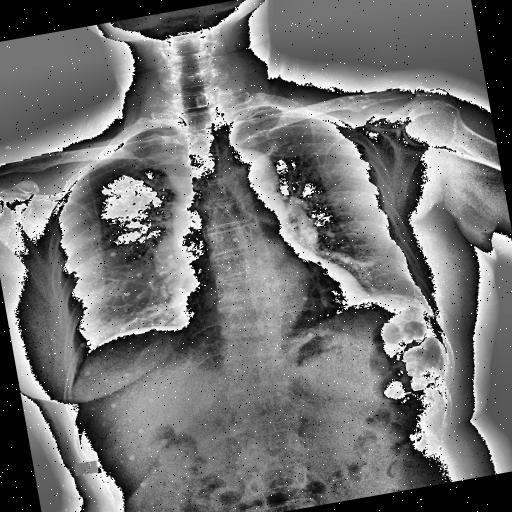0- Aortic enlargement: (164, 144, 282, 237), (212, 143, 286, 210), (230, 142, 285, 214)
3- Cardiomegaly: (176, 262, 374, 343), (166, 256, 370, 332)
8- Nodule-Mass: (53, 196, 185, 352), (108, 250, 116, 258), (306, 330, 314, 338), (286, 232, 294, 239), (72, 274, 79, 282), (301, 293, 308, 301), (230, 236, 238, 242), (134, 272, 142, 278), (256, 259, 264, 265), (122, 291, 130, 297), (338, 98, 345, 104), (118, 326, 125, 332), (316, 260, 324, 265), (166, 254, 174, 259), (152, 330, 158, 336), (80, 342, 86, 348), (348, 95, 355, 100), (360, 104, 367, 108), (124, 220, 130, 224)
